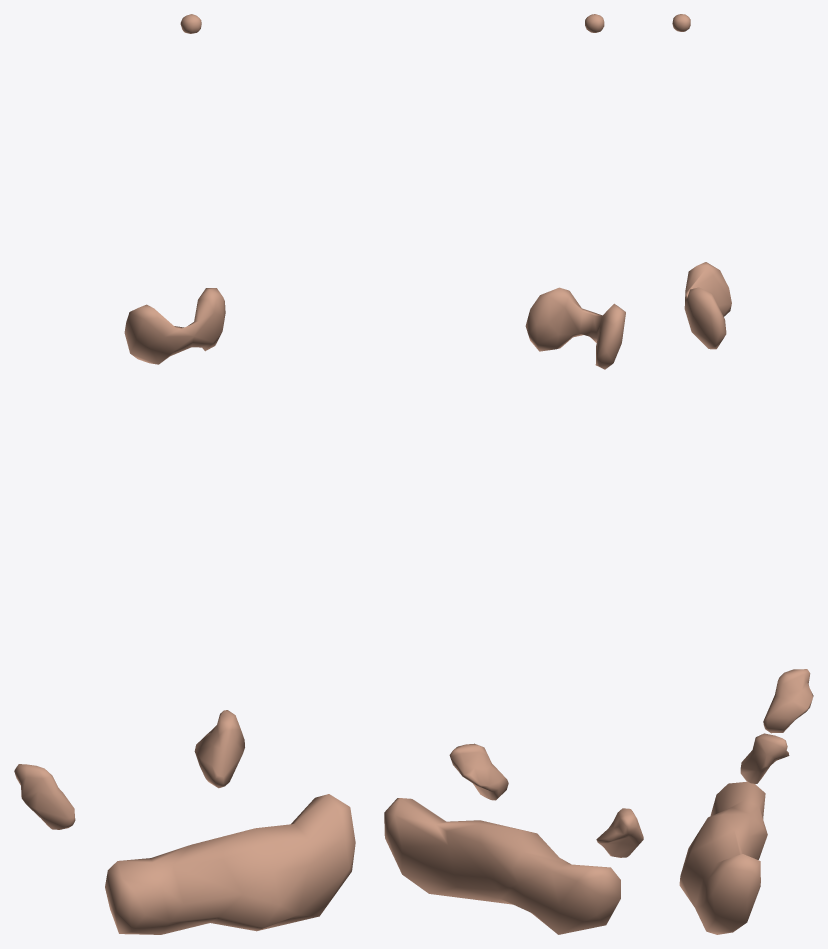
The model's file is pediatric_adolescent_male.endocrine.LOD2.glb.
3 views of the same model, side by side, from view 1: azimuth 30°, elevation 25°; view 2: azimuth 150°, elevation 25°; view 3: azimuth 270°, elevation 25° (orthographic). The views are drawn at different scales.
Parts seen in each view (by area): view 1: PEDIATRIC.ADOLESCENT.MALE.ENDOCRINE.PANCREAS, PEDIATRIC.ADOLESCENT.MALE.ENDOCRINE.THYROID, PEDIATRIC.ADOLESCENT.MALE.ENDOCRINE.ADRENAL.L, PEDIATRIC.ADOLESCENT.MALE.ENDOCRINE.ADRENAL.R; view 2: PEDIATRIC.ADOLESCENT.MALE.ENDOCRINE.PANCREAS, PEDIATRIC.ADOLESCENT.MALE.ENDOCRINE.THYROID, PEDIATRIC.ADOLESCENT.MALE.ENDOCRINE.ADRENAL.L, PEDIATRIC.ADOLESCENT.MALE.ENDOCRINE.ADRENAL.R; view 3: PEDIATRIC.ADOLESCENT.MALE.ENDOCRINE.PANCREAS, PEDIATRIC.ADOLESCENT.MALE.ENDOCRINE.THYROID, PEDIATRIC.ADOLESCENT.MALE.ENDOCRINE.ADRENAL.R, PEDIATRIC.ADOLESCENT.MALE.ENDOCRINE.ADRENAL.L.
Boxes of the visible parts, x1,y1,x2,y2 form: PEDIATRIC.ADOLESCENT.MALE.ENDOCRINE.PANCREAS: [105, 794, 355, 934]; PEDIATRIC.ADOLESCENT.MALE.ENDOCRINE.THYROID: [124, 288, 225, 364]; PEDIATRIC.ADOLESCENT.MALE.ENDOCRINE.ADRENAL.L: [194, 710, 244, 788]; PEDIATRIC.ADOLESCENT.MALE.ENDOCRINE.ADRENAL.R: [14, 764, 75, 829]; PEDIATRIC.ADOLESCENT.MALE.ENDOCRINE.PANCREAS: [384, 798, 620, 934]; PEDIATRIC.ADOLESCENT.MALE.ENDOCRINE.THYROID: [525, 287, 625, 369]; PEDIATRIC.ADOLESCENT.MALE.ENDOCRINE.ADRENAL.L: [449, 743, 508, 800]; PEDIATRIC.ADOLESCENT.MALE.ENDOCRINE.ADRENAL.R: [596, 808, 643, 857]; PEDIATRIC.ADOLESCENT.MALE.ENDOCRINE.PANCREAS: [679, 781, 767, 934]; PEDIATRIC.ADOLESCENT.MALE.ENDOCRINE.THYROID: [684, 262, 731, 349]; PEDIATRIC.ADOLESCENT.MALE.ENDOCRINE.ADRENAL.R: [763, 669, 813, 733]; PEDIATRIC.ADOLESCENT.MALE.ENDOCRINE.ADRENAL.L: [740, 733, 789, 783].
Bounding box in the file's own units: 0.1668 × 0.5117 × 0.0762.
